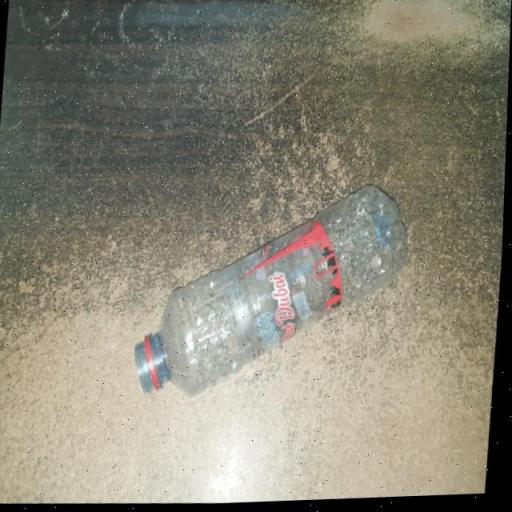plastic: (130, 177, 416, 425)
